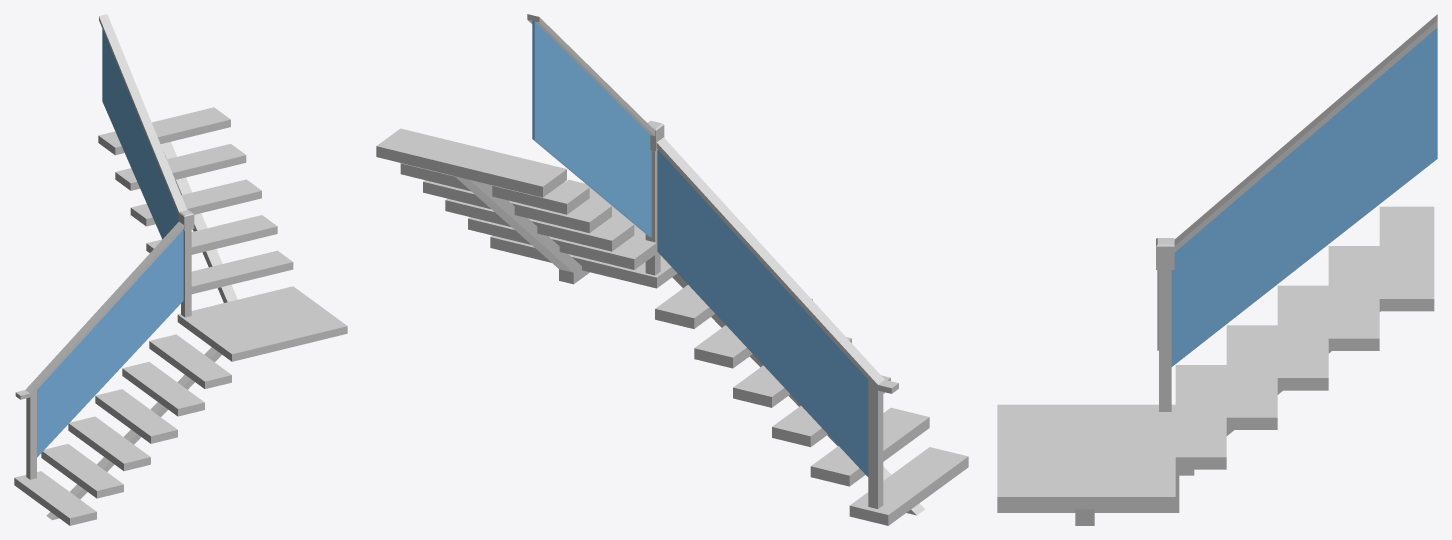
Rendered from Stairs2_C4_root.fbx.
3 renders of one model, left to right at view 1: azimuth 30°, elevation 25°; view 2: azimuth 150°, elevation 25°; view 3: azimuth 270°, elevation 25°, orthographic. The views are drawn at different scales.
Parts seen in each view (by area): view 1: Stairs2_C4_sh_28, Stairs2_C4_sh_26, Stairs2_C4_sh_1, Stairs2_C4_sh_2, Stairs2_C4_sh_18, Stairs2_C4_sh_17, Stairs2_C4_sh_9, Stairs2_C4_sh_14, Stairs2_C4_sh_15, Stairs2_C4_sh_16, Stairs2_C4_sh_5, Stairs2_C4_sh_8 (+12 smaller); view 2: Stairs2_C4_sh_28, Stairs2_C4_sh_26, Stairs2_C4_sh_5, Stairs2_C4_sh_17, Stairs2_C4_sh_7, Stairs2_C4_sh_8, Stairs2_C4_sh_25, Stairs2_C4_sh_6, Stairs2_C4_sh_11, Stairs2_C4_sh_4, Stairs2_C4_sh_13, Stairs2_C4_sh_10 (+11 smaller); view 3: Stairs2_C4_sh_26, Stairs2_C4_sh_1, Stairs2_C4_sh_2, Stairs2_C4_sh_5, Stairs2_C4_sh_7, Stairs2_C4_sh_6, Stairs2_C4_sh_8, Stairs2_C4_sh_4, Stairs2_C4_sh_18, Stairs2_C4_sh_21, Stairs2_C4_sh_3.
Part boxes in pixels (x1,y1,x2,y2): Stairs2_C4_sh_28: (37,230,183,446); Stairs2_C4_sh_26: (102,29,178,239); Stairs2_C4_sh_1: (247,286,347,354); Stairs2_C4_sh_2: (177,297,267,361); Stairs2_C4_sh_18: (99,14,187,214); Stairs2_C4_sh_17: (15,222,183,399); Stairs2_C4_sh_9: (149,334,231,388); Stairs2_C4_sh_14: (68,416,150,471); Stairs2_C4_sh_15: (95,389,177,443); Stairs2_C4_sh_16: (122,362,204,416); Stairs2_C4_sh_5: (98,107,230,155); Stairs2_C4_sh_8: (146,215,277,254); Stairs2_C4_sh_28: (657,150,868,459); Stairs2_C4_sh_26: (532,21,651,237); Stairs2_C4_sh_5: (376,128,566,197); Stairs2_C4_sh_17: (656,137,898,393); Stairs2_C4_sh_7: (423,180,611,233); Stairs2_C4_sh_8: (445,198,634,251); Stairs2_C4_sh_25: (454,176,589,284); Stairs2_C4_sh_6: (400,163,589,214); Stairs2_C4_sh_11: (883,447,968,496); Stairs2_C4_sh_4: (483,221,656,269); Stairs2_C4_sh_13: (811,407,929,474); Stairs2_C4_sh_10: (849,488,927,525); Stairs2_C4_sh_26: (1171,27,1437,366); Stairs2_C4_sh_1: (997,433,1175,509); Stairs2_C4_sh_2: (997,404,1175,459); Stairs2_C4_sh_5: (1379,206,1434,311); Stairs2_C4_sh_7: (1277,285,1328,390); Stairs2_C4_sh_6: (1328,246,1379,350); Stairs2_C4_sh_8: (1226,325,1277,429); Stairs2_C4_sh_4: (1175,365,1226,448); Stairs2_C4_sh_18: (1174,14,1437,252); Stairs2_C4_sh_21: (1156,238,1174,411); Stairs2_C4_sh_3: (1175,441,1226,469).
Bounding box in the file's own units: 301 × 397 × 252.
